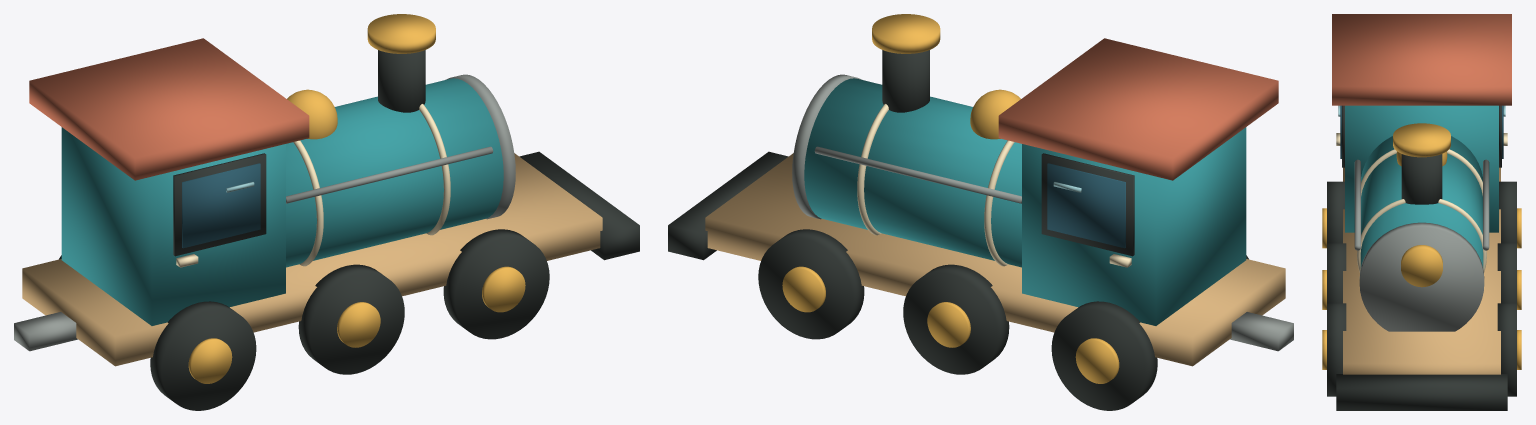
File: fleet-train.glb
The picture shows the model from 3 angles, left to right: view 1: azimuth 30°, elevation 25°; view 2: azimuth 150°, elevation 25°; view 3: azimuth 270°, elevation 25°; orthographic projection. The views are drawn at different scales.
Parts seen in each view (by area): view 1: Train_Boiler, Train_Roof, Train_Cab, Train_Chassis, Train_ROOT_Wheel_2_-1, Train_ROOT_Wheel_1_-1, Train_ROOT_Wheel_0_-1, Train_Cab_Window, Train_Buffer_Front, Train_Chimney, Train_Window_Trim, Train_Chimney_Rim (+9 smaller); view 2: Train_Boiler, Train_Roof, Train_Cab, Train_Chassis, Train_ROOT_Wheel_2_1, Train_ROOT_Wheel_1_1, Train_ROOT_Wheel_0_1, Train_Cab_Window.001, Train_Buffer_Front, Train_Chimney, Train_Window_Trim.001, Train_Chimney_Rim (+9 smaller); view 3: Train_Roof, Train_Chassis, Train_Boiler_Front, Train_Cab, Train_Boiler, Train_Buffer_Front, Train_Chimney, Train_Chimney_Rim, Train_ROOT_Wheel_2_1, Train_ROOT_Wheel_2_-1, Train_Headlamp, Train_ROOT_Wheel_1_1 (+13 smaller).
Boxes of the visible parts, x1=… form: Train_Boiler: x1=286, y1=78, x2=503, y2=267; Train_Roof: x1=29, y1=38, x2=309, y2=180; Train_Cab: x1=61, y1=127, x2=285, y2=325; Train_Chassis: x1=22, y1=153, x2=602, y2=366; Train_ROOT_Wheel_2_-1: x1=443, y1=229, x2=549, y2=339; Train_ROOT_Wheel_1_-1: x1=298, y1=264, x2=404, y2=374; Train_ROOT_Wheel_0_-1: x1=150, y1=301, x2=256, y2=410; Train_Cab_Window: x1=182, y1=163, x2=260, y2=248; Train_Buffer_Front: x1=519, y1=151, x2=639, y2=260; Train_Chimney: x1=378, y1=50, x2=425, y2=112; Train_Window_Trim: x1=173, y1=153, x2=266, y2=256; Train_Chimney_Rim: x1=367, y1=14, x2=435, y2=53; Train_Boiler: x1=804, y1=78, x2=1021, y2=267; Train_Roof: x1=998, y1=38, x2=1278, y2=180; Train_Cab: x1=1022, y1=127, x2=1246, y2=325; Train_Chassis: x1=705, y1=153, x2=1285, y2=366; Train_ROOT_Wheel_2_1: x1=758, y1=229, x2=864, y2=339; Train_ROOT_Wheel_1_1: x1=903, y1=264, x2=1009, y2=374; Train_ROOT_Wheel_0_1: x1=1051, y1=301, x2=1157, y2=410; Train_Cab_Window.001: x1=1047, y1=163, x2=1125, y2=248; Train_Buffer_Front: x1=668, y1=151, x2=788, y2=260; Train_Chimney: x1=882, y1=50, x2=929, y2=112; Train_Window_Trim.001: x1=1041, y1=153, x2=1134, y2=256; Train_Chimney_Rim: x1=872, y1=14, x2=940, y2=53; Train_Roof: x1=1332, y1=14, x2=1511, y2=105; Train_Chassis: x1=1343, y1=167, x2=1500, y2=374; Train_Boiler_Front: x1=1359, y1=222, x2=1484, y2=331; Train_Cab: x1=1345, y1=105, x2=1498, y2=232; Train_Boiler: x1=1360, y1=136, x2=1483, y2=268; Train_Buffer_Front: x1=1336, y1=374, x2=1507, y2=410; Train_Chimney: x1=1401, y1=154, x2=1442, y2=204; Train_Chimney_Rim: x1=1393, y1=123, x2=1450, y2=157; Train_ROOT_Wheel_2_1: x1=1497, y1=303, x2=1516, y2=396; Train_ROOT_Wheel_2_-1: x1=1327, y1=303, x2=1346, y2=396; Train_Headlamp: x1=1401, y1=245, x2=1442, y2=287; Train_ROOT_Wheel_1_1: x1=1497, y1=243, x2=1516, y2=303.
Bounding box in the file's own units: 6.35 × 2.99 × 2.27.
